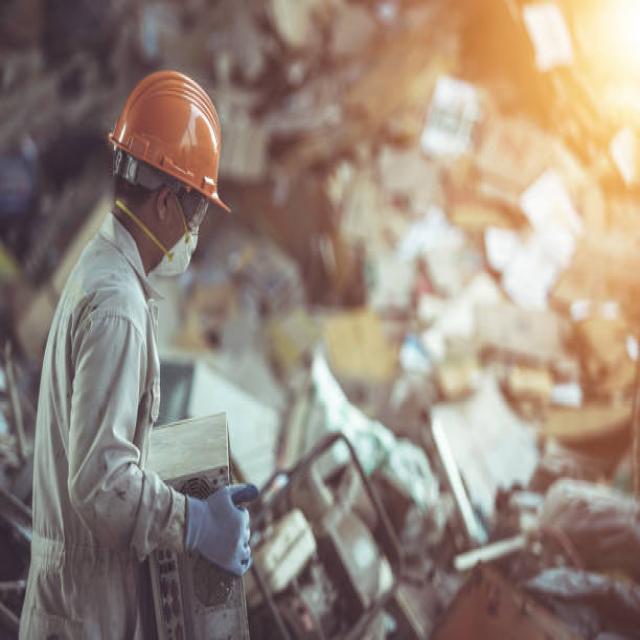metal: (257, 442, 408, 590)
